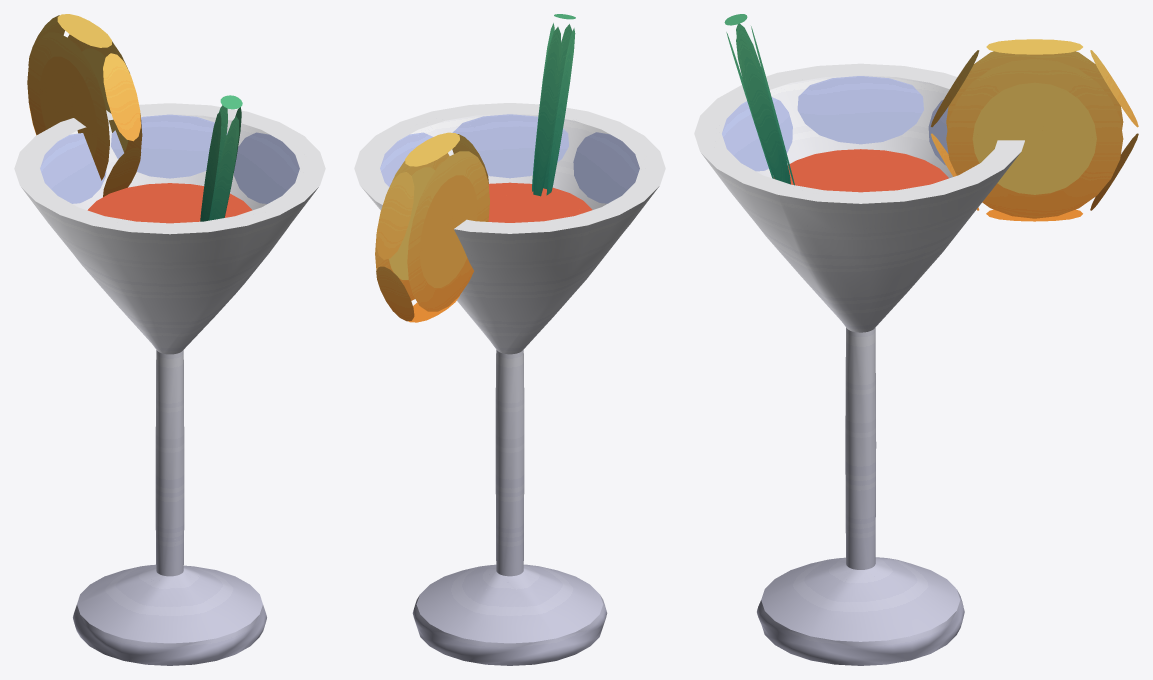
The model's file is cocktail.glb.
3 views of the same model, side by side, from view 1: azimuth 30°, elevation 25°; view 2: azimuth 150°, elevation 25°; view 3: azimuth 270°, elevation 25° (orthographic). The views are drawn at different scales.
Parts seen in each view (by area): view 1: cocktail, lemon, straw; view 2: cocktail, lemon, straw; view 3: cocktail, lemon, straw.
Part boxes in pixels (x1,y1,x2,y2): cocktail: [14, 103, 325, 665]; lemon: [27, 14, 142, 196]; straw: [200, 95, 242, 221]; cocktail: [354, 103, 665, 665]; lemon: [375, 132, 489, 322]; straw: [532, 14, 575, 196]; cocktail: [694, 63, 1024, 665]; lemon: [931, 39, 1138, 221]; straw: [724, 14, 794, 185].
Size of the model in its own units: 0.2498 by 0.5057 by 0.3347.
1 material, 1 textured.
